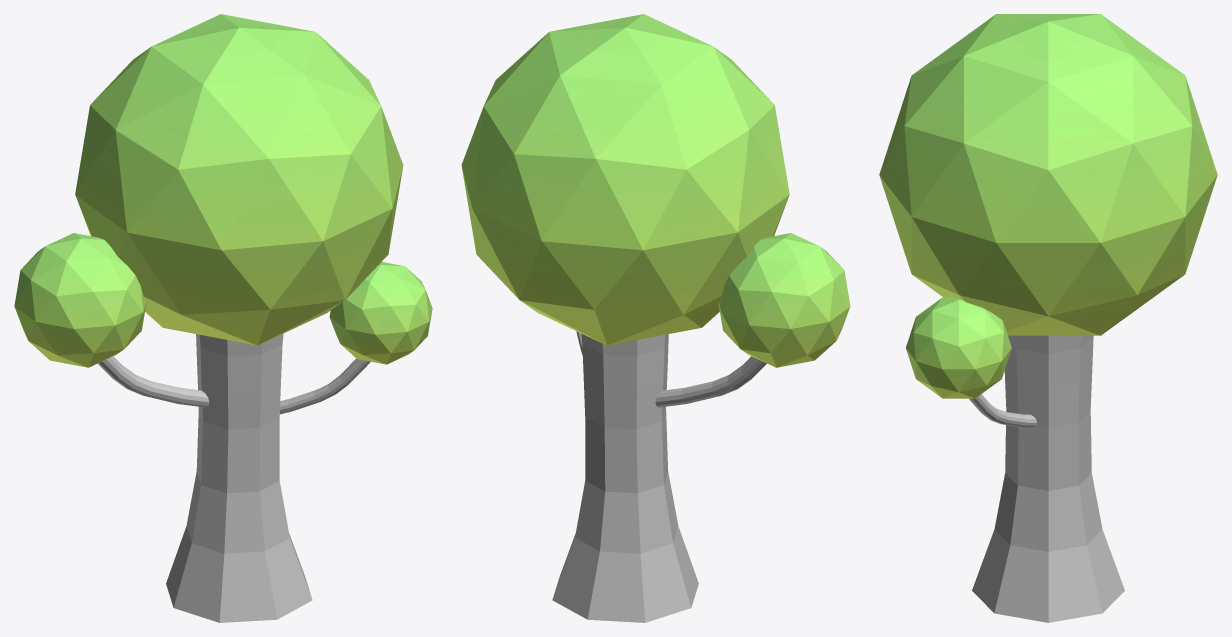
File: Tree2.fbx
The picture shows the model from 3 angles, left to right: view 1: azimuth 30°, elevation 25°; view 2: azimuth 150°, elevation 25°; view 3: azimuth 270°, elevation 25°; orthographic projection.
Visible parts, largest first — view 1: Tree2; view 2: Tree2; view 3: Tree2.
Boxes of the visible parts, x1=… form: Tree2: x1=14, y1=14, x2=432, y2=622; Tree2: x1=461, y1=14, x2=850, y2=622; Tree2: x1=879, y1=14, x2=1217, y2=622.
Bounding box in the file's own units: 489 × 742 × 400.
